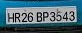numberplate: (5, 6, 78, 23)
